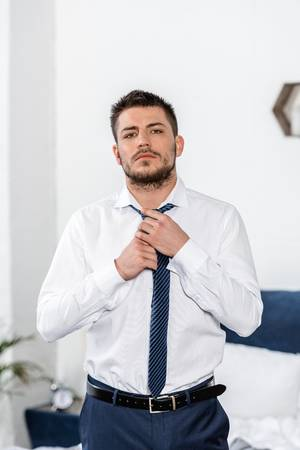F_belt: (69, 370, 216, 407)
F_shirt: (34, 181, 265, 395)
F_tie: (129, 210, 182, 400)
